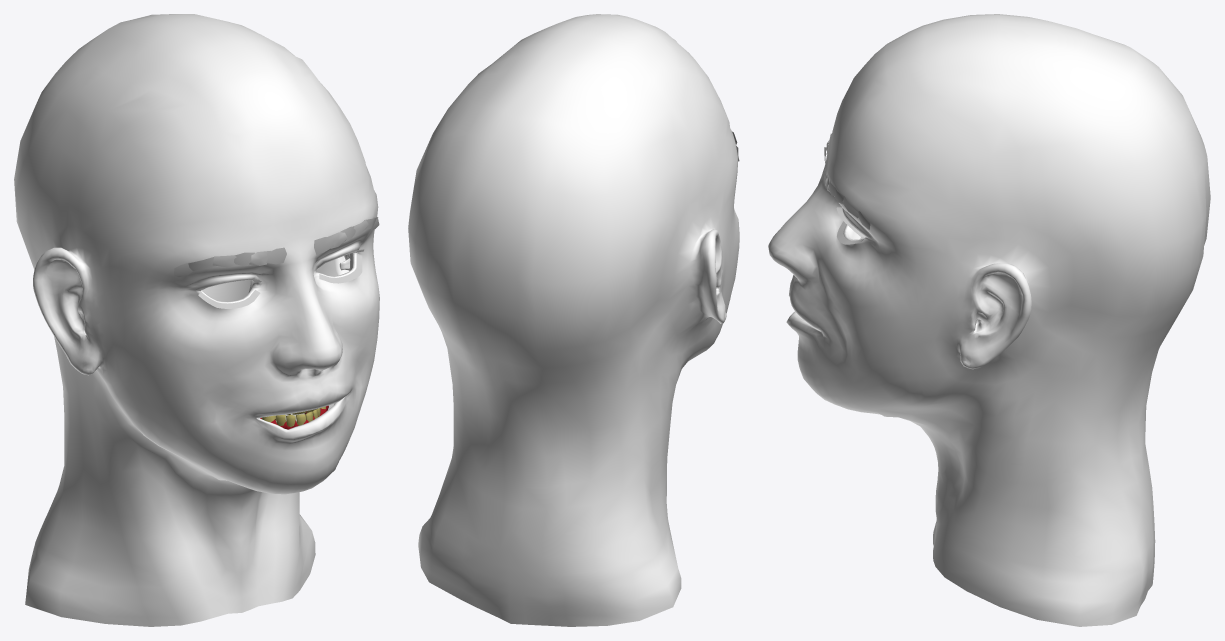
The model's file is mouthLowerDownRight.obj.
3 renders of one model, left to right at view 1: azimuth 30°, elevation 25°; view 2: azimuth 150°, elevation 25°; view 3: azimuth 270°, elevation 25°, orthographic. The views are drawn at different scales.
Parts seen in each view (by area): view 1: FaceMesh_Plane.003; view 2: FaceMesh_Plane.003; view 3: FaceMesh_Plane.003.
Boxes of the visible parts, x1,y1,x2,y2 form: FaceMesh_Plane.003: [14, 14, 379, 626]; FaceMesh_Plane.003: [408, 14, 739, 626]; FaceMesh_Plane.003: [768, 14, 1210, 626].
Size of the model in its own units: 1.54 by 2.71 by 1.94.
5 materials, 1 textured.
